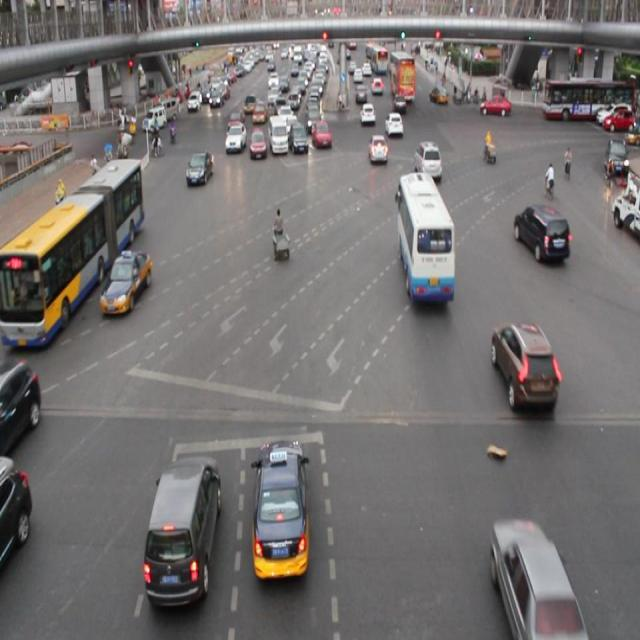car: (489, 519, 582, 640), (251, 438, 310, 580), (491, 323, 557, 411), (0, 358, 40, 448), (512, 204, 568, 264), (100, 250, 151, 314), (1, 456, 29, 564), (414, 141, 444, 181), (186, 150, 213, 188), (223, 122, 246, 153), (289, 120, 309, 155), (310, 118, 331, 150), (368, 132, 388, 164), (248, 128, 266, 160), (384, 110, 402, 139)
truck: (144, 455, 220, 605), (268, 115, 289, 155)
van: (1, 158, 140, 347), (397, 171, 455, 305)
